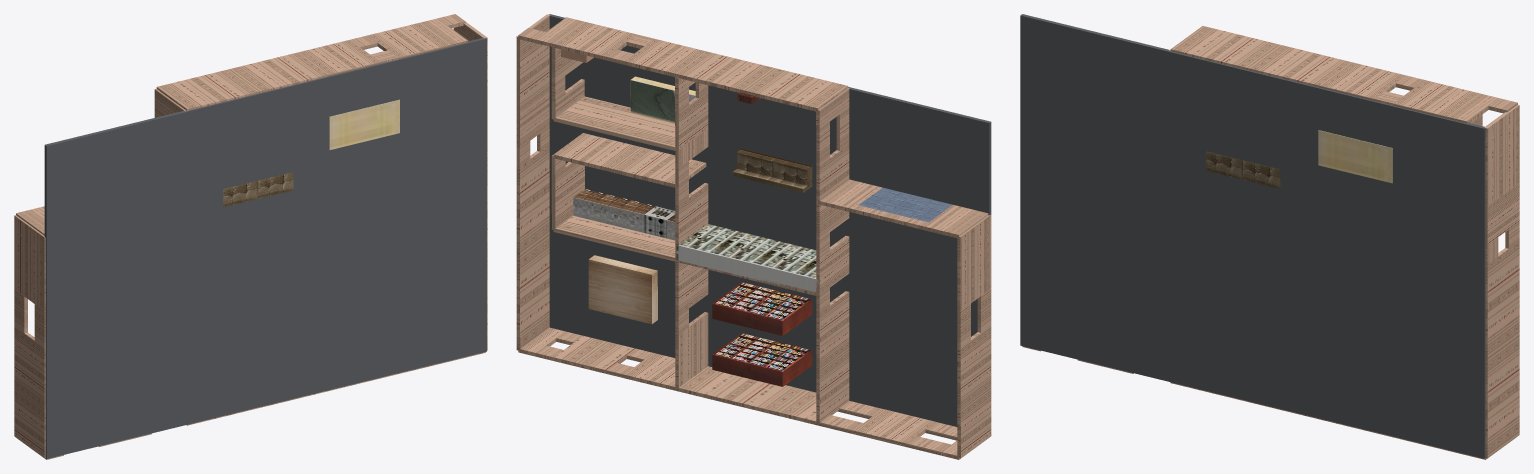
File: level.fbx
3 renders of one model, left to right at view 1: azimuth 30°, elevation 25°; view 2: azimuth 150°, elevation 25°; view 3: azimuth 330°, elevation 25°, orthographic. The views are drawn at different scales.
Visible parts, largest first — view 1: 1-st Floor, Cube.030, Cube.046, Cube.049, Cube.074, Cube.001, Cube.002, Cube.069, Cube.015, Cube.048, Cube.045; view 2: 1-st Floor, Cube.025, Cube.072, Cube.030, Cube.056, Cube.046, Cube.079, Cube.019, Cube.041, Cube.063, Cube.064, Cube.009 (+38 smaller); view 3: 1-st Floor, Cube.025, Cube.030, Cube.018, Cube.074, Cube.002, Cube.001, Cube.069, Cube.021, Cube.015.
Part boxes in pixels (x1,y1,x2,y2): 1-st Floor: (44,38,486,458); Cube.030: (156,52,327,110); Cube.046: (14,326,45,458); Cube.049: (14,215,45,311); Cube.074: (329,99,399,150); Cube.001: (368,22,450,59); Cube.002: (297,40,380,76); Cube.069: (223,172,293,207); Cube.015: (420,18,468,46); Cube.048: (14,289,27,333); Cube.045: (16,206,44,235); 1-st Floor: (549,14,991,426); Cube.025: (516,145,549,350); Cube.072: (676,224,818,292); Cube.030: (677,51,848,111); Cube.056: (677,366,833,425); Cube.046: (957,326,991,458); Cube.079: (588,255,657,324); Cube.019: (553,133,706,188); Cube.041: (816,291,849,423); Cube.063: (712,333,812,386); Cube.064: (712,282,812,335); Cube.009: (553,96,676,150); 1-st Floor: (1020,14,1485,458); Cube.025: (1485,241,1519,458); Cube.030: (1170,26,1350,87); Cube.018: (1484,104,1519,205); Cube.074: (1318,130,1392,183); Cube.002: (1319,62,1406,100); Cube.001: (1393,80,1480,118); Cube.069: (1206,151,1280,188); Cube.021: (1485,183,1519,244); Cube.015: (1448,93,1498,123).
Size of the model in its own units: 29429 by 20090 by 3937.
